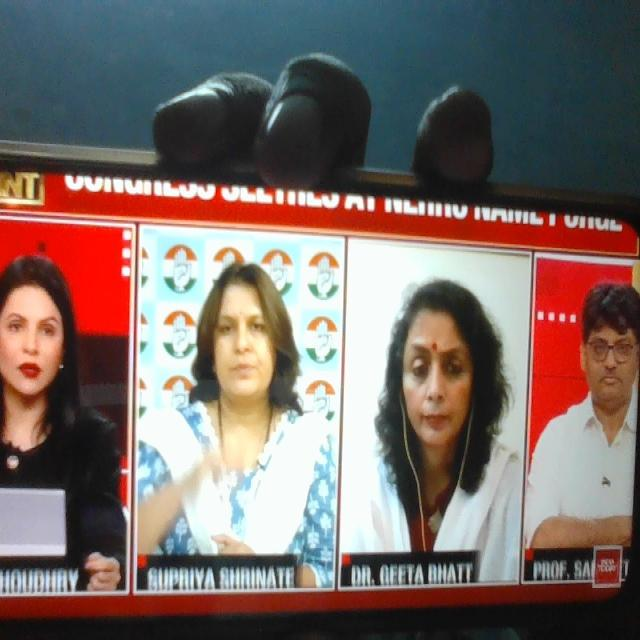fake: (383, 282, 491, 486)
